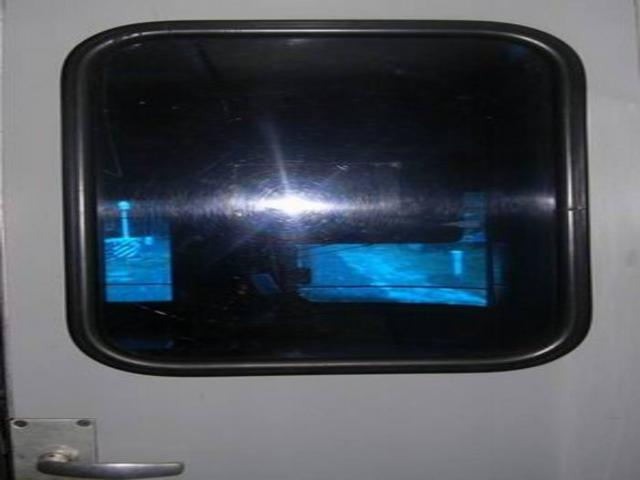Door-handle: (11, 418, 185, 479)
